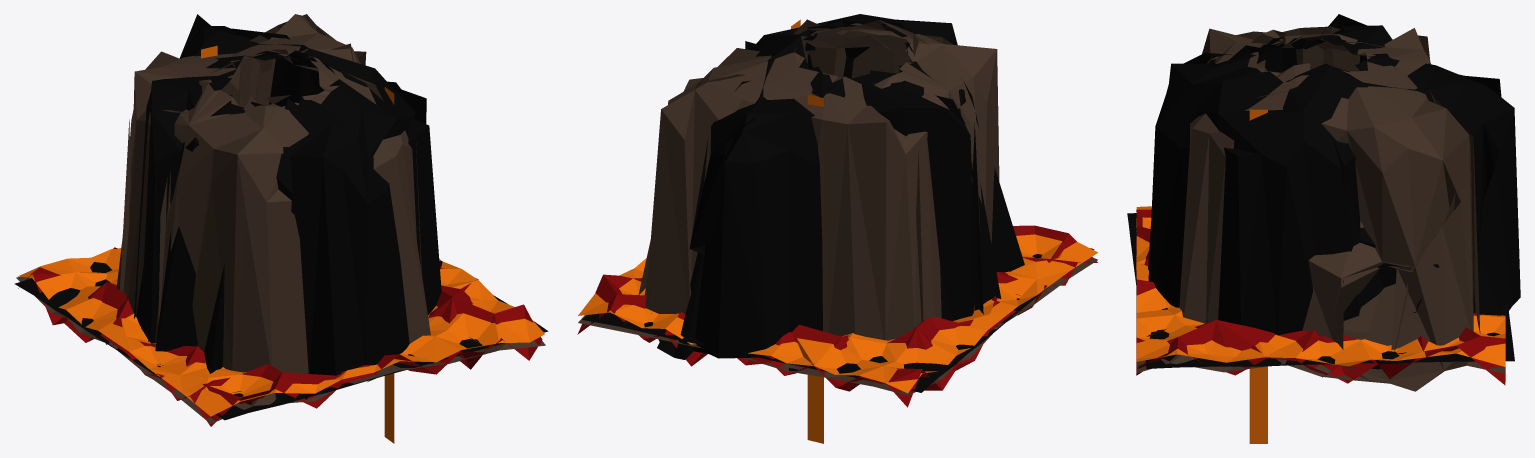
Rendered from level1b.fbx.
3 views of the same model, side by side, from view 1: azimuth 30°, elevation 25°; view 2: azimuth 150°, elevation 25°; view 3: azimuth 270°, elevation 25° (orthographic). The views are drawn at different scales.
Parts seen in each view (by area): view 1: VOLCANO, BOTTOM LAVA, BOTTOM LAVA.001, VOLCANO.001, BOTTOM LAVA.002, LAVA FALL 1; view 2: VOLCANO, BOTTOM LAVA, BOTTOM LAVA.001, VOLCANO.001, BOTTOM LAVA.002, LAVA FALL 2; view 3: VOLCANO, BOTTOM LAVA, BOTTOM LAVA.001, VOLCANO.001, BOTTOM LAVA.002, LAVA FALL 1.
Boxes of the visible parts, x1,y1,x2,y2 form: VOLCANO: (16, 14, 545, 423); BOTTOM LAVA: (18, 248, 544, 416); BOTTOM LAVA.001: (18, 247, 542, 426); VOLCANO.001: (122, 14, 490, 393); BOTTOM LAVA.002: (14, 260, 548, 420); LAVA FALL 1: (384, 87, 394, 443); VOLCANO: (578, 14, 1097, 395); BOTTOM LAVA: (578, 234, 1097, 393); BOTTOM LAVA.001: (577, 225, 1097, 407); VOLCANO.001: (638, 19, 1019, 314); BOTTOM LAVA.002: (582, 248, 1094, 392); LAVA FALL 2: (807, 94, 823, 443); VOLCANO: (1133, 25, 1520, 391); BOTTOM LAVA: (1136, 206, 1505, 366); BOTTOM LAVA.001: (1136, 209, 1505, 385); VOLCANO.001: (1146, 14, 1501, 380); BOTTOM LAVA.002: (1127, 213, 1514, 368); LAVA FALL 1: (1249, 109, 1267, 443).
Bounding box in the file's own units: 4204 × 4284 × 4266.
